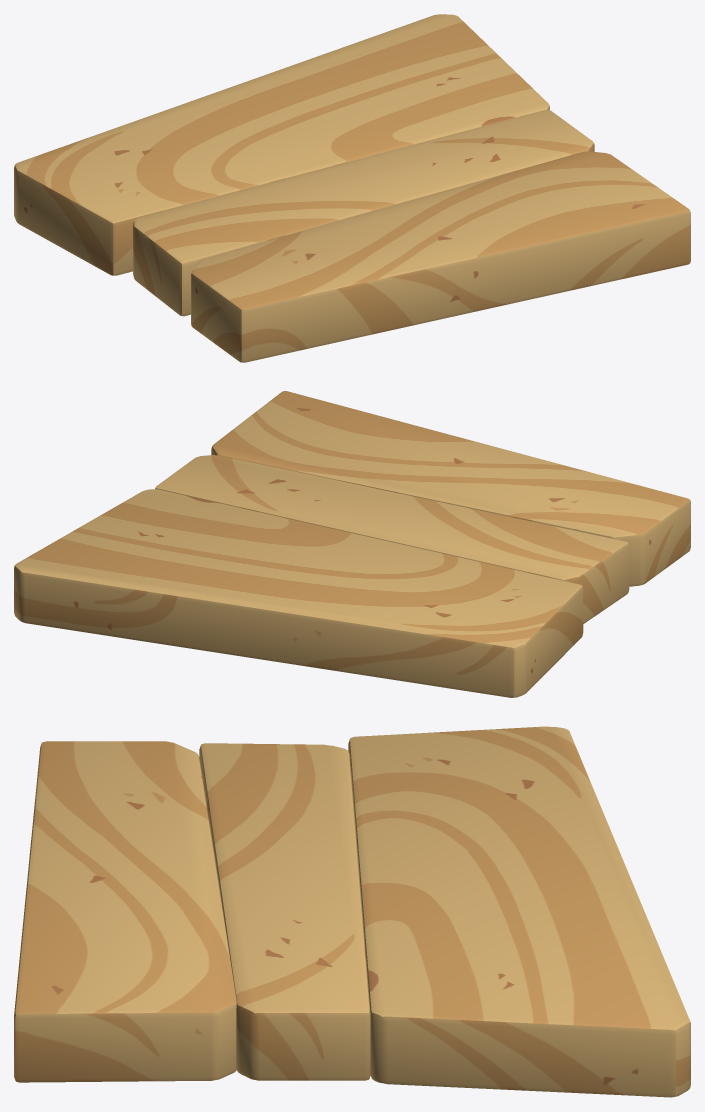
File: Prop_WoodBridge.fbx
The picture shows the model from 3 angles, top to bottom: view 1: azimuth 30°, elevation 25°; view 2: azimuth 150°, elevation 25°; view 3: azimuth 270°, elevation 25°; orthographic projection. The views are drawn at different scales.
Visible parts, largest first — view 1: WoodBridge3, WoodBridge1, WoodBridge2; view 2: WoodBridge1, WoodBridge3, WoodBridge2; view 3: WoodBridge1, WoodBridge3, WoodBridge2.
Part boxes in pixels (x1,y1,x2,y2): WoodBridge3: [191, 151, 690, 362]; WoodBridge1: [14, 14, 549, 275]; WoodBridge2: [133, 110, 594, 316]; WoodBridge1: [14, 489, 583, 697]; WoodBridge3: [211, 391, 690, 586]; WoodBridge2: [155, 455, 629, 623]; WoodBridge1: [348, 726, 690, 1097]; WoodBridge3: [14, 741, 236, 1082]; WoodBridge2: [199, 743, 370, 1080].
Size of the model in its own units: 158 by 17.11 by 148.
